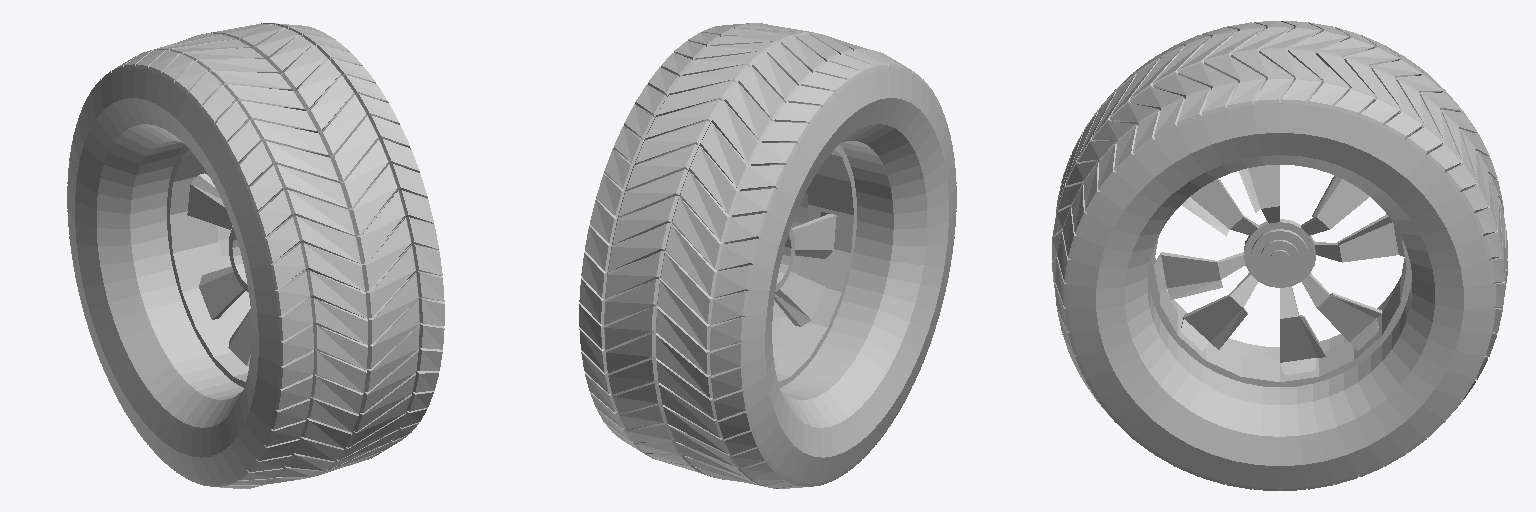
File: Wheel.obj
3 views of the same model, side by side, from view 1: azimuth 30°, elevation 25°; view 2: azimuth 150°, elevation 25°; view 3: azimuth 270°, elevation 25° (orthographic).
Parts seen in each view (by area): view 1: ruedafinalbuena1concolision:pPipe2; view 2: ruedafinalbuena1concolision:pPipe2; view 3: ruedafinalbuena1concolision:pPipe2.
Boxes of the visible parts, box(x1,y1,x2,y2) form: ruedafinalbuena1concolision:pPipe2: box(67, 23, 444, 488); ruedafinalbuena1concolision:pPipe2: box(579, 23, 956, 488); ruedafinalbuena1concolision:pPipe2: box(1052, 21, 1507, 490).
Size of the model in its own units: 0.5934 by 1.32 by 1.32.